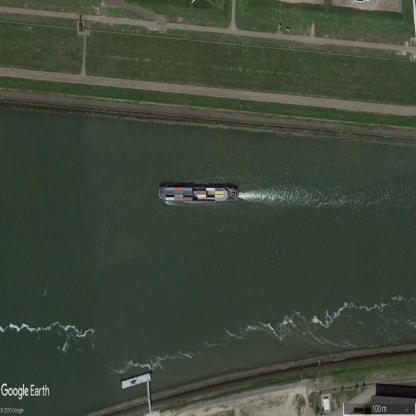ship: (159, 186, 238, 204)
